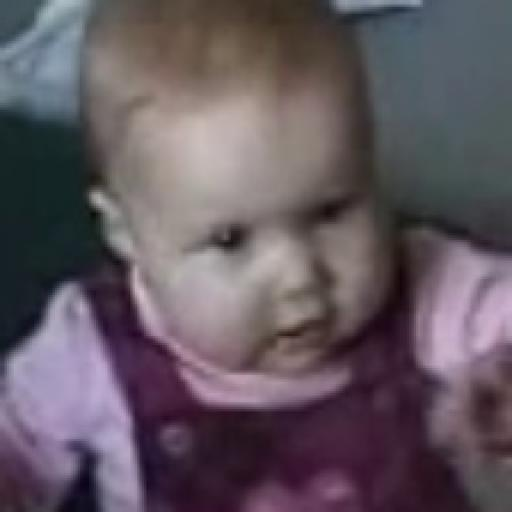Autism: (78, 6, 446, 406)
